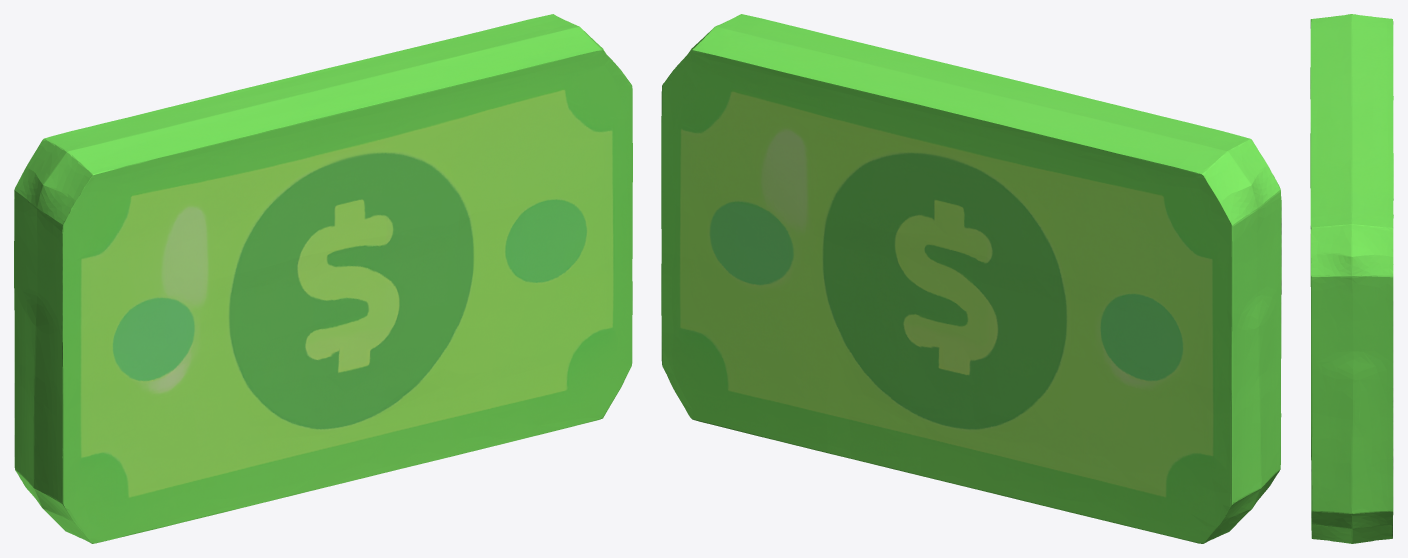
The model's file is money.glb.
The picture shows the model from 3 angles, left to right: view 1: azimuth 30°, elevation 25°; view 2: azimuth 150°, elevation 25°; view 3: azimuth 270°, elevation 25°; orthographic projection. The views are drawn at different scales.
Parts seen in each view (by area): view 1: world; view 2: world; view 3: world.
Part boxes in pixels (x1,y1,x2,y2): world: (14,14,632,543); world: (661,14,1281,543); world: (1310,14,1393,543).
Bounding box in the file's own units: 1 × 0.6268 × 0.1478.
1 material, 1 textured.
